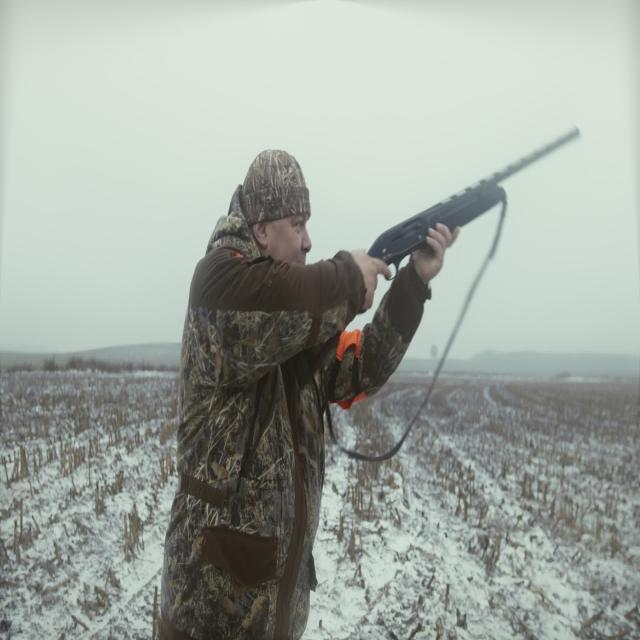poacher: (238, 172, 394, 620)
weapon: (353, 95, 604, 244), (299, 180, 365, 311)
